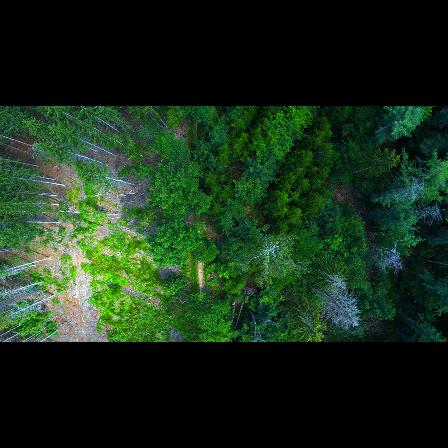Dead: (312, 284, 363, 329), (371, 178, 430, 205), (368, 236, 402, 273), (406, 201, 448, 224)
Sick: (240, 231, 299, 271), (317, 261, 348, 290)
